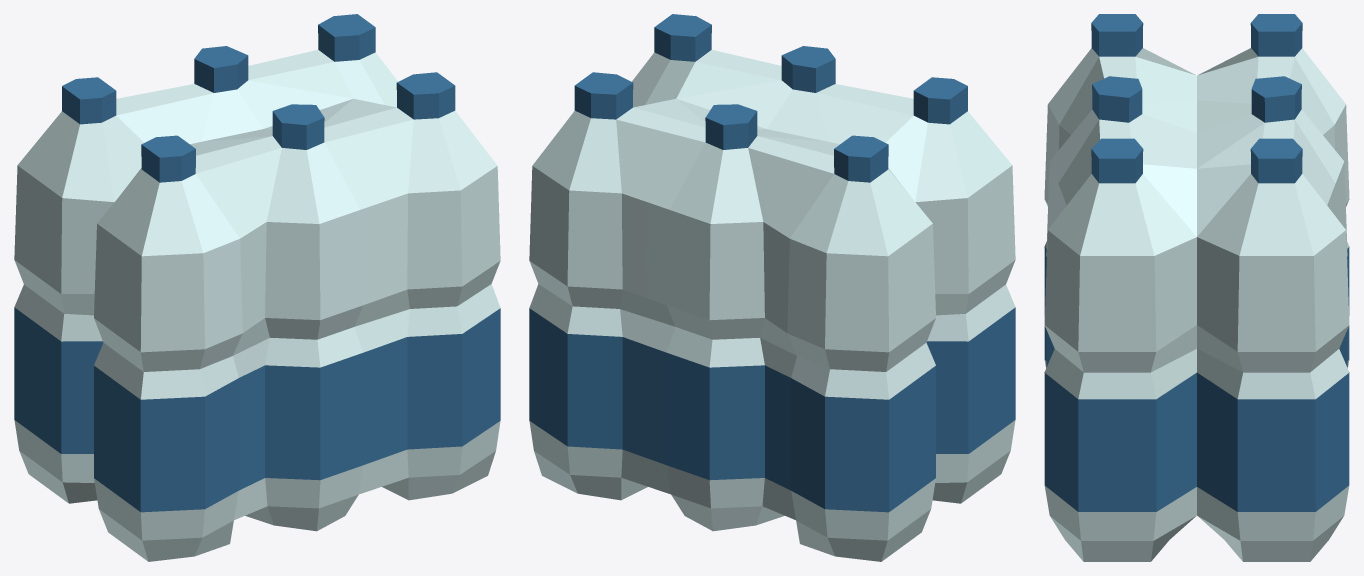
File: water-bottles-pack.glb
The picture shows the model from 3 angles, left to right: view 1: azimuth 30°, elevation 25°; view 2: azimuth 150°, elevation 25°; view 3: azimuth 270°, elevation 25°; orthographic projection.
Parts seen in each view (by area): view 1: water-bottles-pack; view 2: water-bottles-pack; view 3: water-bottles-pack.
Part boxes in pixels (bbox=[...]): water-bottles-pack: bbox=[14, 14, 500, 561]; water-bottles-pack: bbox=[529, 14, 1015, 561]; water-bottles-pack: bbox=[1044, 14, 1349, 561].
Bounding box in the file's own units: 0.4622 × 0.4744 × 0.3351.
1 material, 1 textured.
